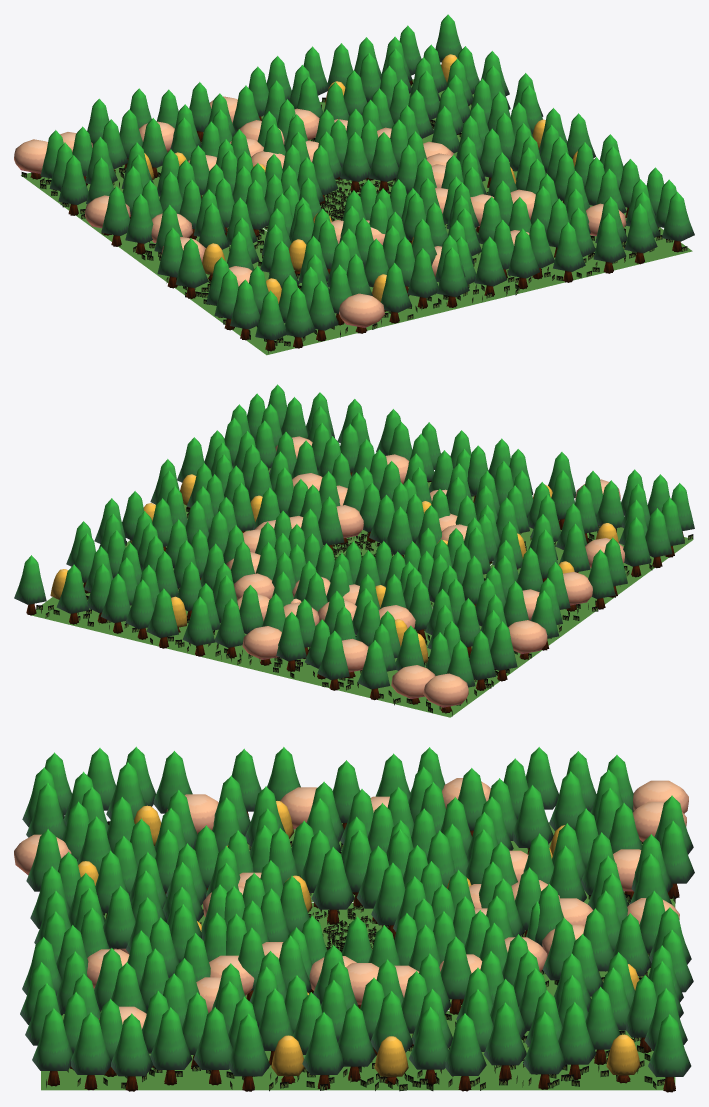
Rendered from camp_bigtrees.fbx.
3 renders of one model, top to bottom at view 1: azimuth 30°, elevation 25°; view 2: azimuth 150°, elevation 25°; view 3: azimuth 270°, elevation 25°, orthographic. The views are drawn at different scales.
Parts seen in each view (by area): view 1: Terrain_Far, Terrain_Near; view 2: Terrain_Far, Terrain_Near; view 3: Terrain_Far, Terrain_Near, tree_pine.001.
Part boxes in pixels (left/top/right/bottom): Terrain_Far: left=14, top=14, right=694, bottom=355; Terrain_Near: left=216, top=109, right=483, bottom=244; Terrain_Far: left=14, top=384, right=694, bottom=717; Terrain_Near: left=226, top=471, right=499, bottom=608; Terrain_Far: left=14, top=746, right=694, bottom=1092; Terrain_Near: left=203, top=828, right=494, bottom=1009; tree_pine.001: left=73, top=887, right=104, bottom=931.
Bounding box in the file's own units: 10627 × 1532 × 10734.
17 materials, 15 textured.
